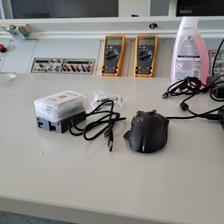mouse: (121, 107, 170, 152)
